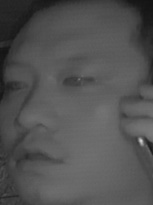eye: (62, 71, 93, 92), (4, 75, 30, 92)
mouth: (13, 137, 68, 172)
